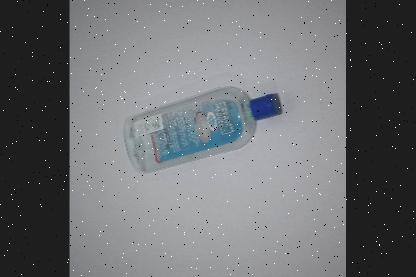Plastic Bottle: (124, 85, 281, 172)
